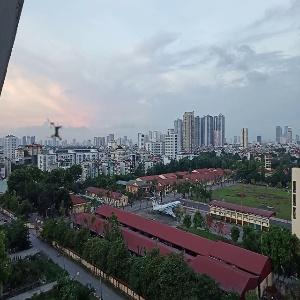drone: (34, 110, 79, 155)
